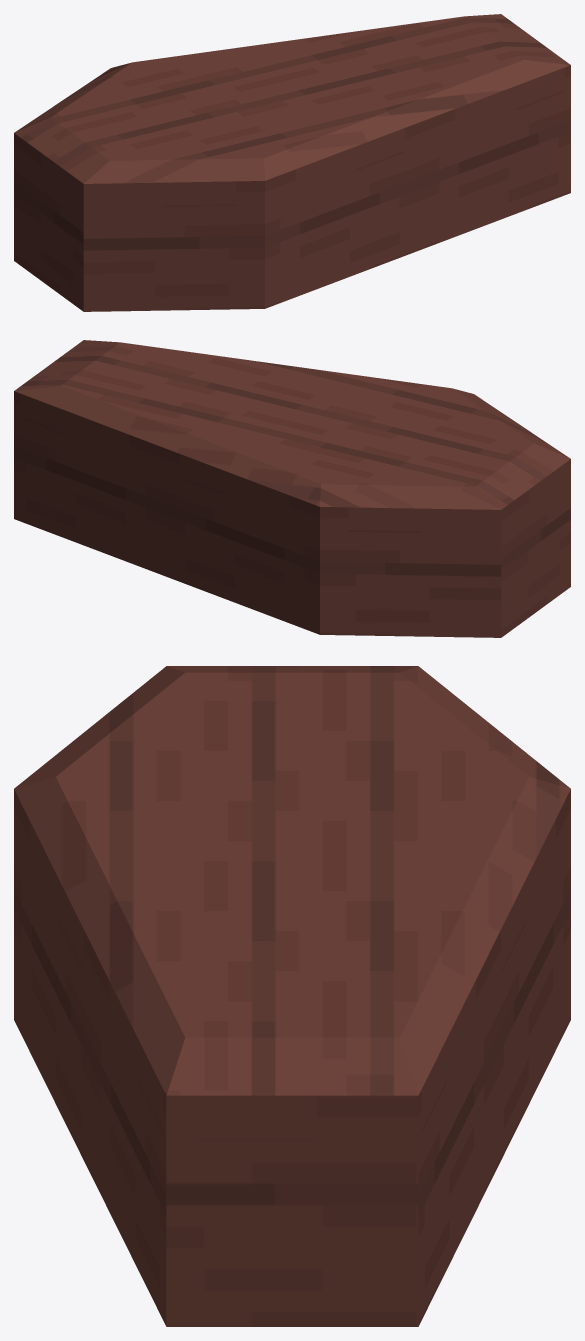
The model's file is Coffin.fbx.
3 renders of one model, top to bottom at view 1: azimuth 30°, elevation 25°; view 2: azimuth 150°, elevation 25°; view 3: azimuth 270°, elevation 25°, orthographic. The views are drawn at different scales.
Visible parts, largest first — view 1: Lid, Coffin; view 2: Lid, Coffin; view 3: Lid, Coffin.
Part boxes in pixels (x1,y1,x2,y2): Lid: [14, 14, 570, 208]; Coffin: [14, 90, 570, 311]; Lid: [14, 340, 570, 534]; Coffin: [14, 415, 570, 637]; Lid: [14, 666, 570, 1139]; Coffin: [14, 833, 570, 1326].
Size of the model in its own units: 769 by 211 by 421.
Materials: 1 (1 with a texture image).
